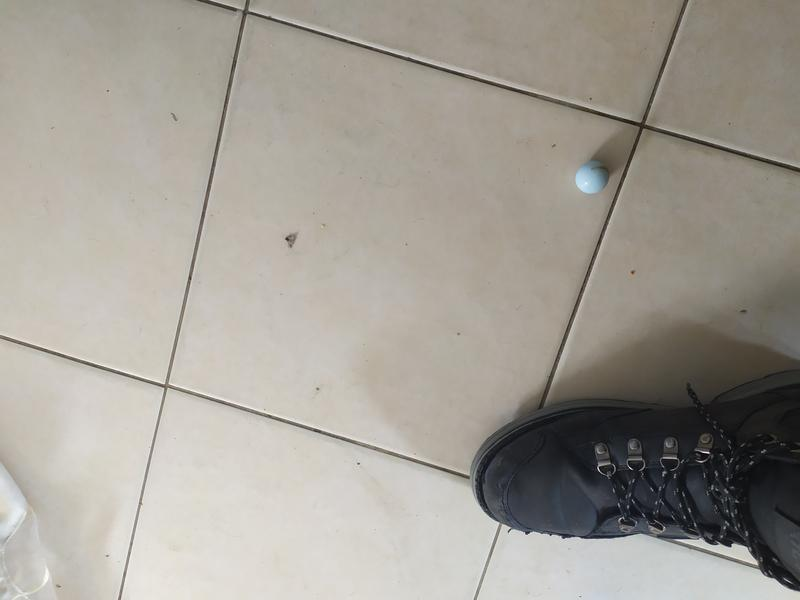Warning: (573, 157, 612, 196)
